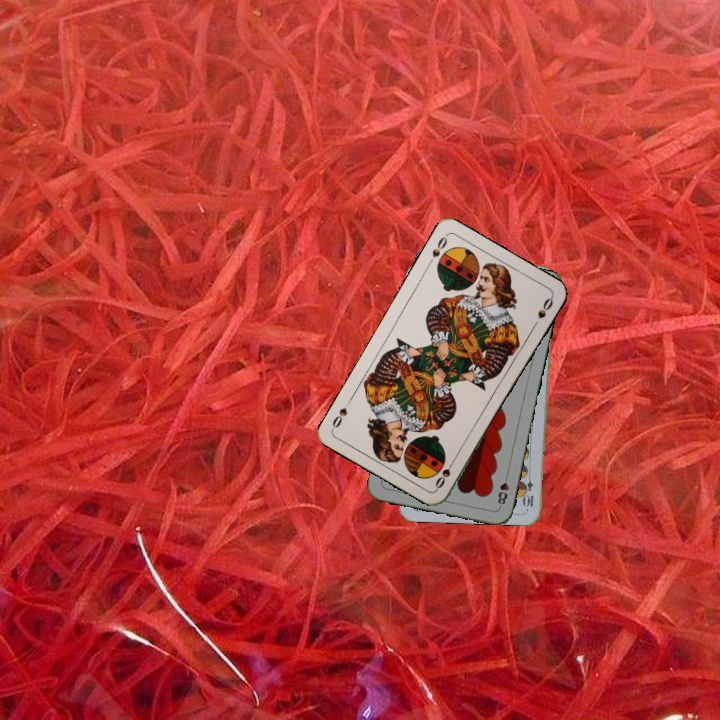E10: (522, 469, 536, 510)
H8: (493, 470, 511, 510)
SO: (431, 455, 458, 492), (428, 232, 450, 260)
